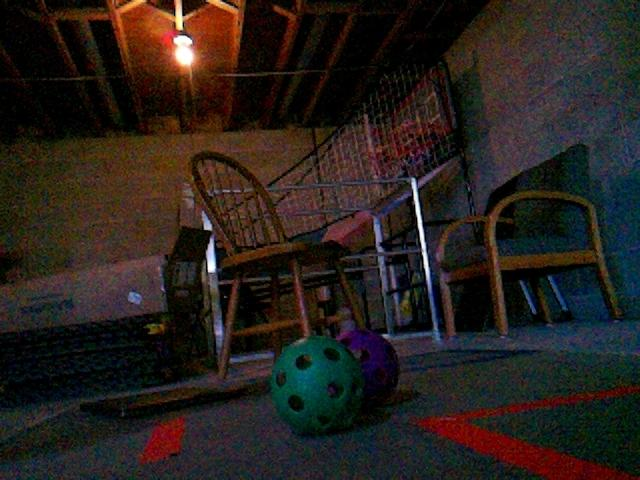Green: (267, 334, 364, 434)
Purple: (341, 331, 401, 407)
